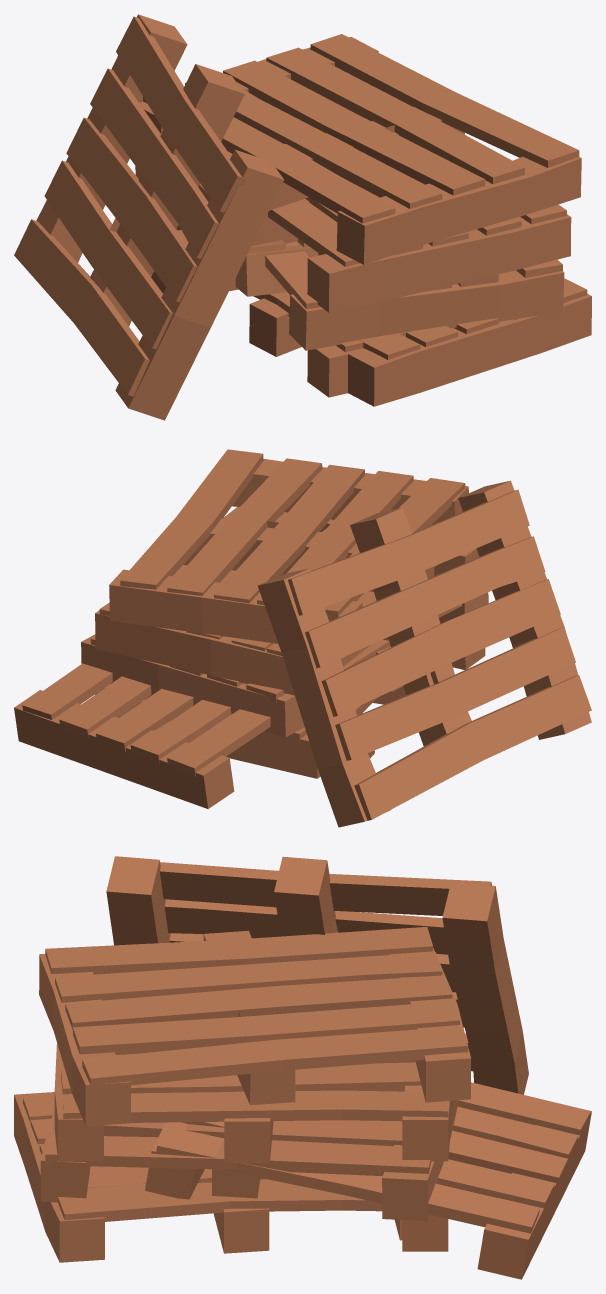
File: Palet3.fbx
The picture shows the model from 3 angles, top to bottom: view 1: azimuth 30°, elevation 25°; view 2: azimuth 150°, elevation 25°; view 3: azimuth 270°, elevation 25°; orthographic projection. The views are drawn at different scales.
Parts seen in each view (by area): view 1: Cube.011, Cube.006, Cube.005, Cube.003, Cube.004, Cube.002, Cube.001; view 2: Cube.011, Cube.006, Cube.001, Cube.005, Cube.004, Cube.002; view 3: Cube.006, Cube.011, Cube.001, Cube.005, Cube.004, Cube.003, Cube.002.
Part boxes in pixels (box(x1,y1,x2,y2)): Cube.011: box(14, 14, 283, 420); Cube.006: box(139, 34, 581, 264); Cube.005: box(228, 151, 571, 312); Cube.003: box(151, 230, 591, 406); Cube.004: box(198, 183, 564, 350); Cube.002: box(176, 225, 405, 397); Cube.001: box(135, 166, 318, 296); Cube.011: box(258, 480, 591, 827); Cube.006: box(109, 449, 468, 643); Cube.001: box(14, 639, 390, 808); Cube.005: box(95, 507, 479, 695); Cube.004: box(81, 592, 488, 737); Cube.002: box(95, 648, 485, 778); Cube.006: box(39, 927, 470, 1126); Cube.011: box(106, 856, 528, 1094); Cube.001: box(145, 1082, 591, 1279); Cube.005: box(54, 1043, 452, 1162); Cube.004: box(40, 1100, 458, 1221); Cube.003: box(14, 1092, 402, 1262); Cube.002: box(87, 1136, 448, 1251).
Size of the model in its own units: 187 by 104 by 194.
